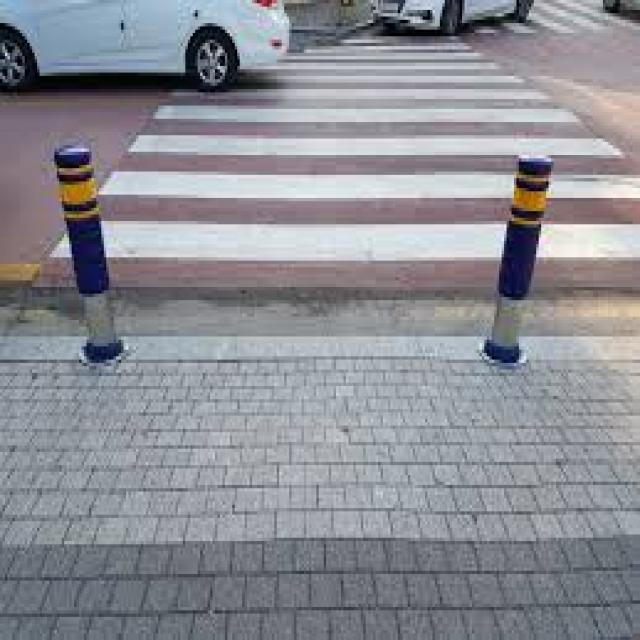bollard: (50, 135, 136, 359), (485, 144, 558, 374)
